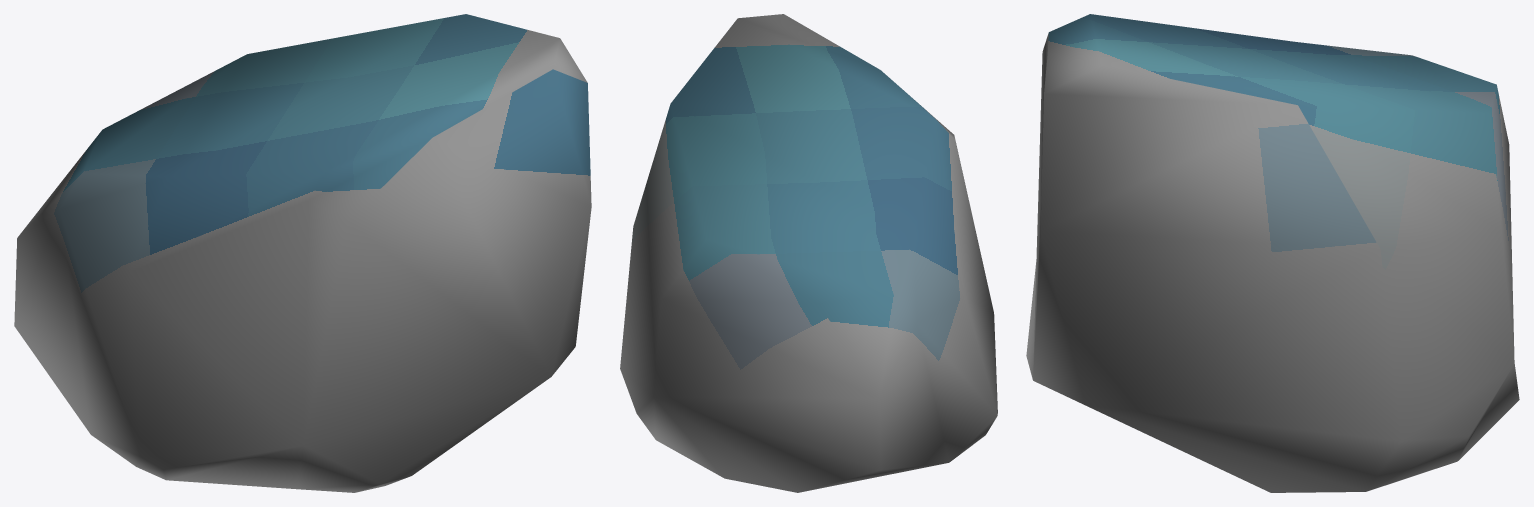
3 views of the same model, side by side, from view 1: azimuth 30°, elevation 25°; view 2: azimuth 150°, elevation 25°; view 3: azimuth 270°, elevation 25° (orthographic). The views are drawn at different scales.
Parts seen in each view (by area): view 1: submesh_0; view 2: submesh_0; view 3: submesh_0.
Part boxes in pixels (x1=…): submesh_0: x1=14, y1=14, x2=591, y2=492; submesh_0: x1=620, y1=14, x2=997, y2=492; submesh_0: x1=1026, y1=14, x2=1519, y2=492.
Bounding box in the file's own units: 0.894 × 0.8762 × 0.9102.
1 material, 1 textured.
